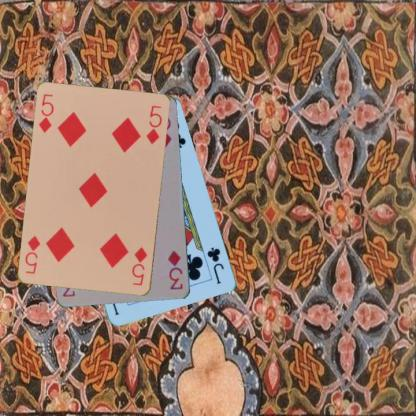3d: (166, 249, 184, 292)
5d: (129, 244, 149, 288), (36, 92, 56, 134)
Jc: (204, 244, 226, 286)
